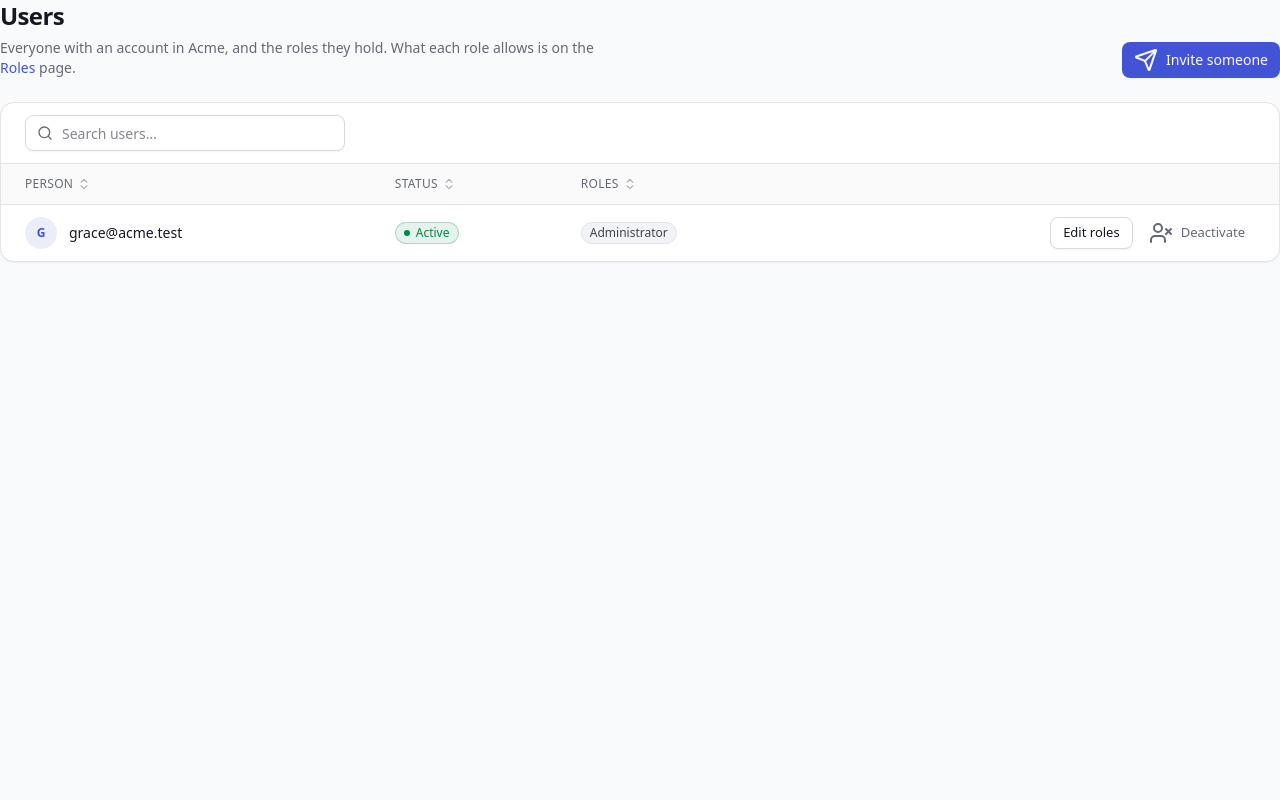
Test: users page › explains why the last administrator cannot be deactivated
Step 1. Click the button with aria-label "Deactivate grace@acme.test" → (1197, 232), box [1139,216,1255,248]
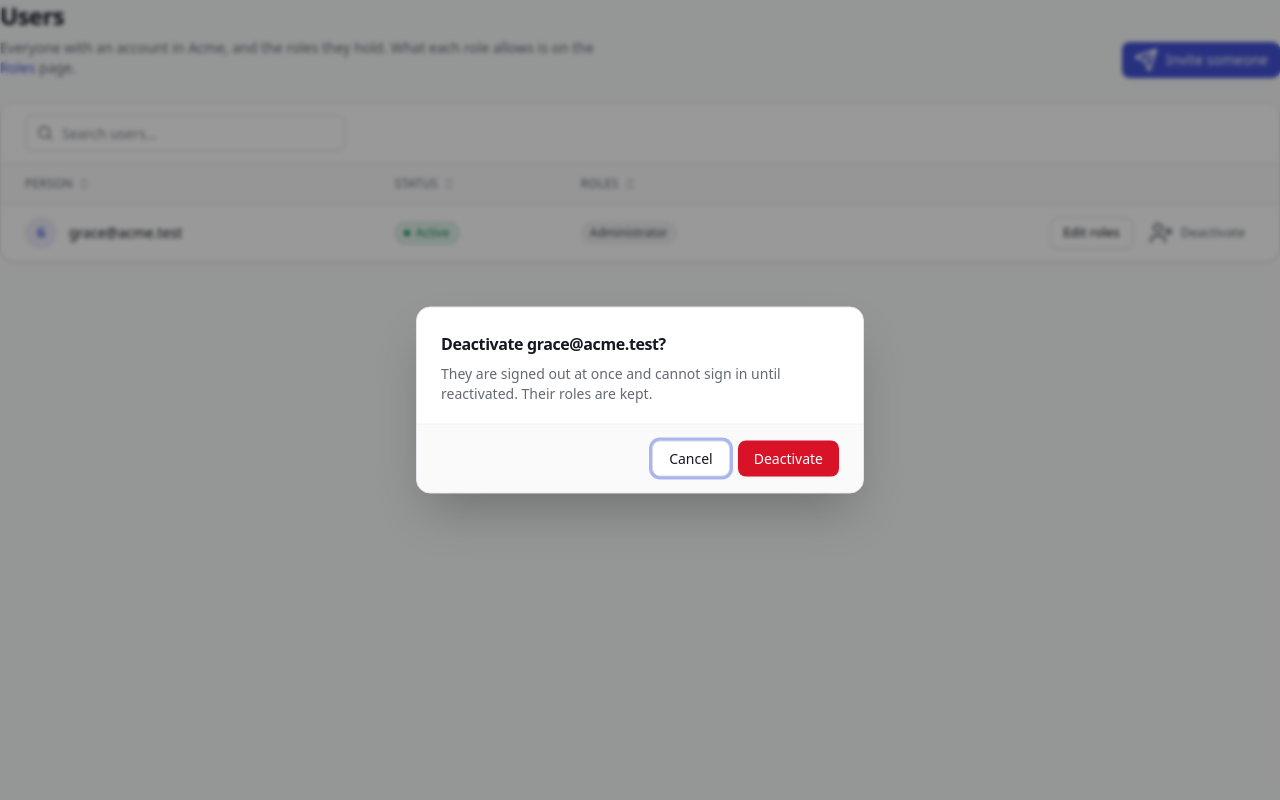
Step 2. Click the button with aria-label "Confirm: deactivate grace@acme.test" → (788, 458), box [738,440,839,476]
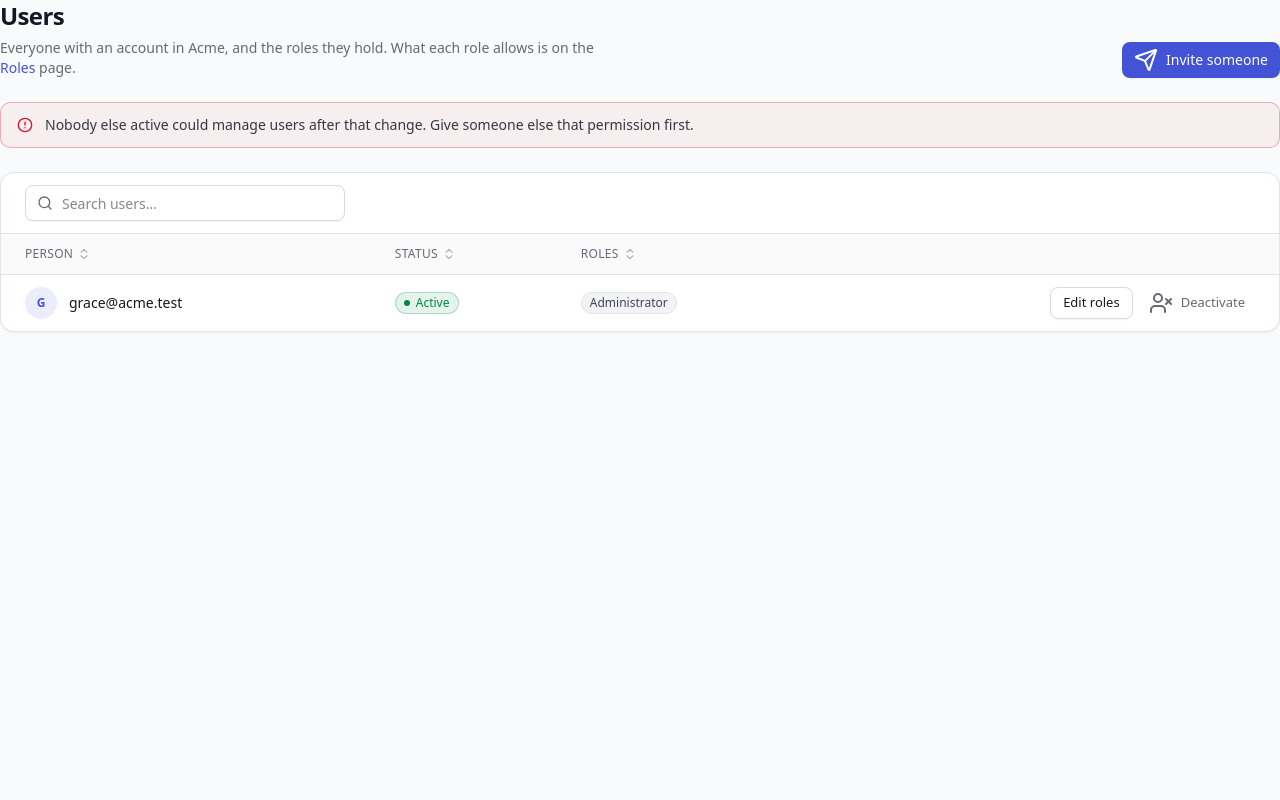
Expected: the message shows "Nobody else active could manage users", [45,115,694,134]
